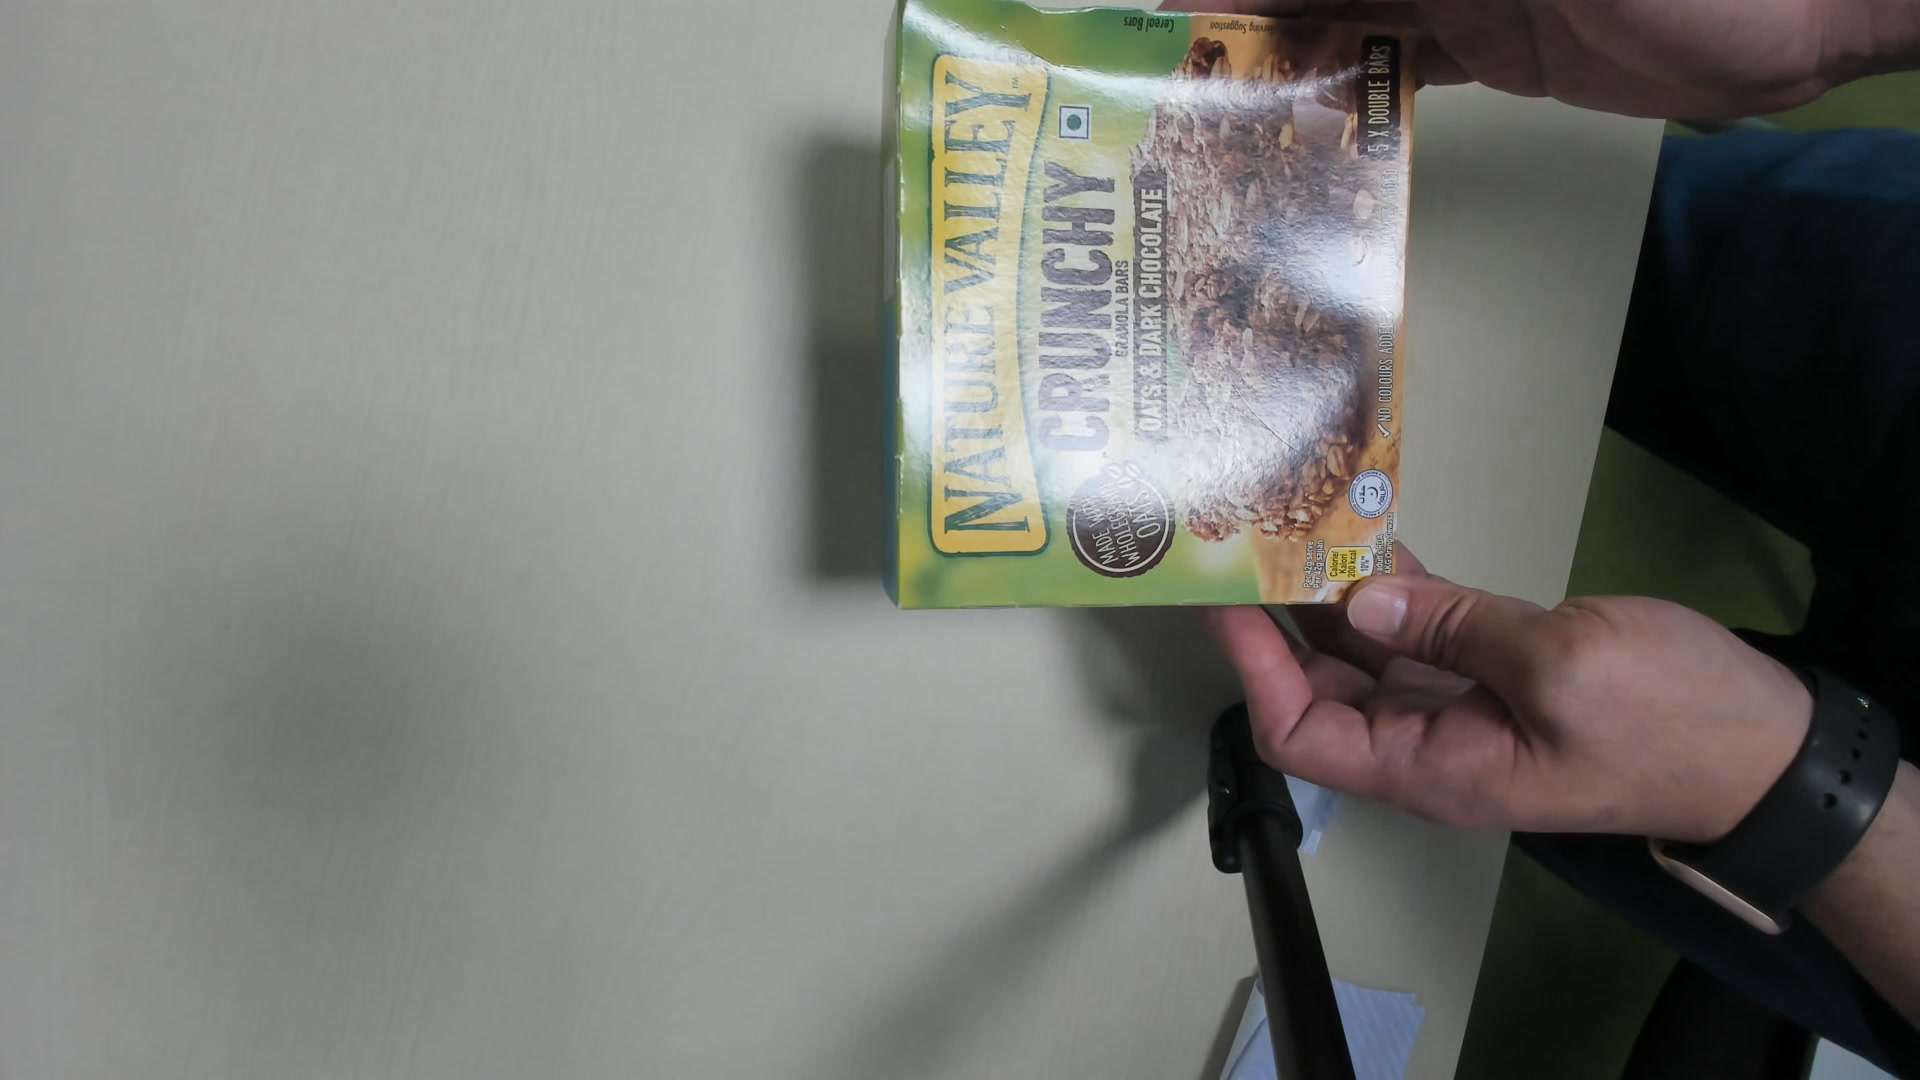SweetsChocolatesOthers_200-299g_Halal_Nonhealthy: (861, 3, 1414, 609)
